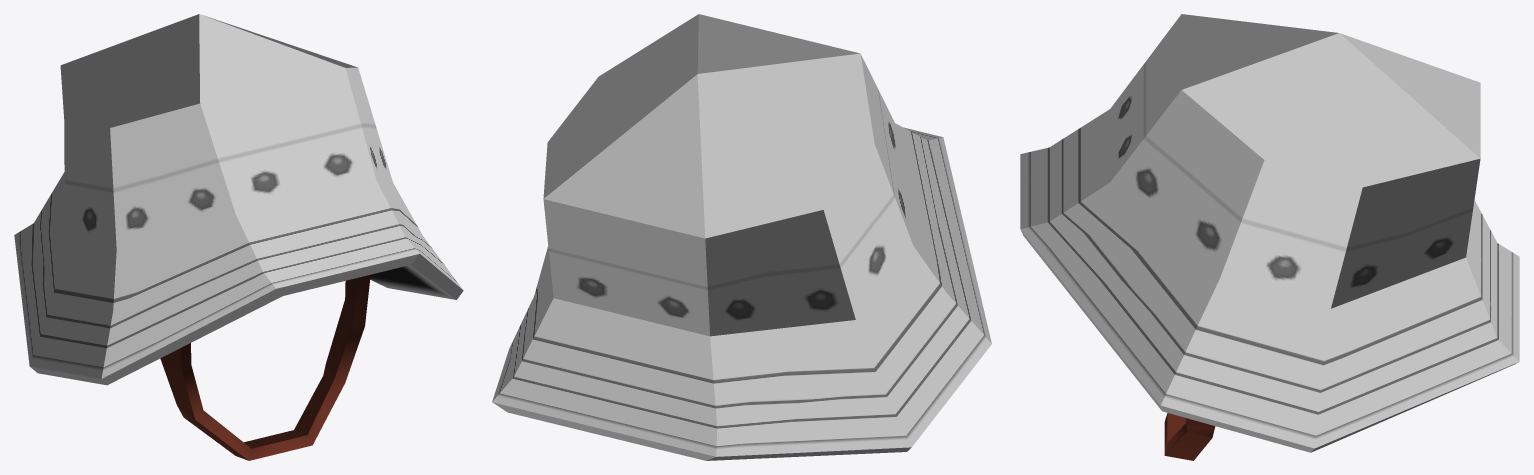
File: KettleHat_F.glb
The picture shows the model from 3 angles, left to right: view 1: azimuth 30°, elevation 25°; view 2: azimuth 150°, elevation 25°; view 3: azimuth 270°, elevation 25°; orthographic projection. The views are drawn at different scales.
Visible parts, largest first — view 1: KettleHat_F; view 2: KettleHat_F; view 3: KettleHat_F.
Part boxes in pixels (box(x1,y1,x2,y2)): KettleHat_F: box(14, 14, 463, 460); KettleHat_F: box(492, 14, 991, 460); KettleHat_F: box(1020, 14, 1519, 460).
Bounding box in the file's own units: 0.3347 × 0.3394 × 0.3731.
Materials: 1 (1 with a texture image).
